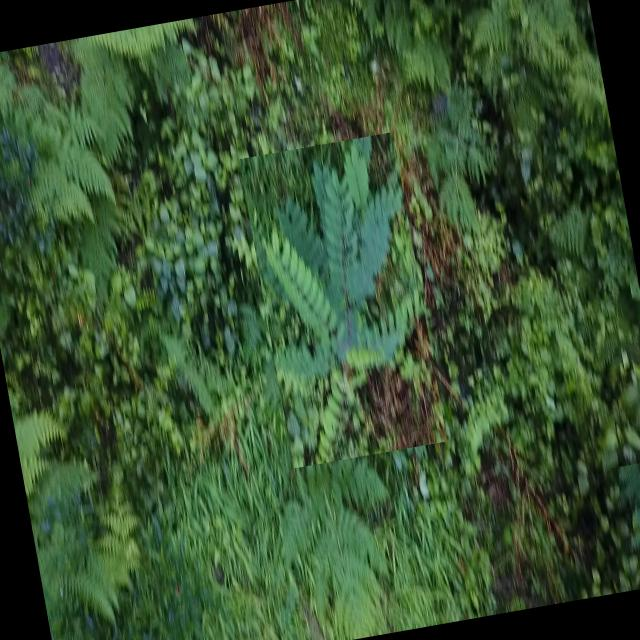Mysore-Thorn-Weed: (239, 132, 447, 468), (611, 457, 640, 589)
